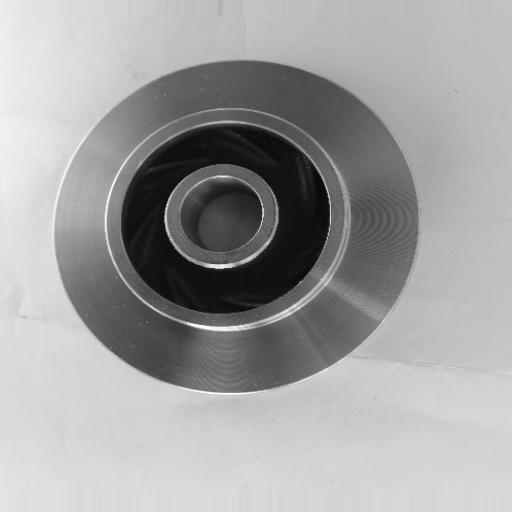polished_casting: (53, 58, 420, 400)
